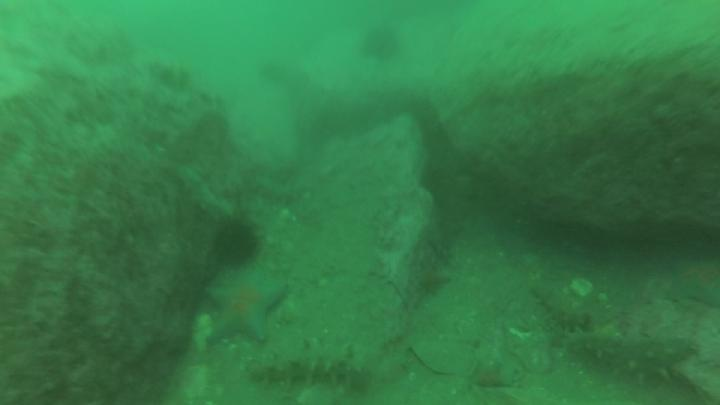echinus: (205, 213, 266, 274), (359, 24, 404, 66)
holothurian: (558, 330, 702, 387), (245, 340, 380, 393), (529, 280, 647, 338), (243, 172, 304, 206)
starfish: (201, 265, 292, 352)
